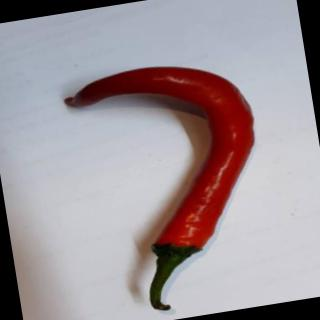Cabai Merah: (55, 52, 284, 320)
